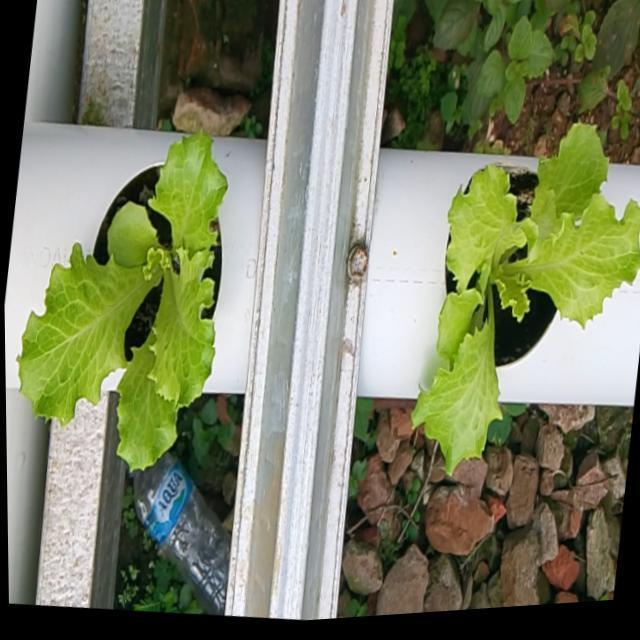Baby: (409, 122, 640, 473), (15, 130, 226, 470)
